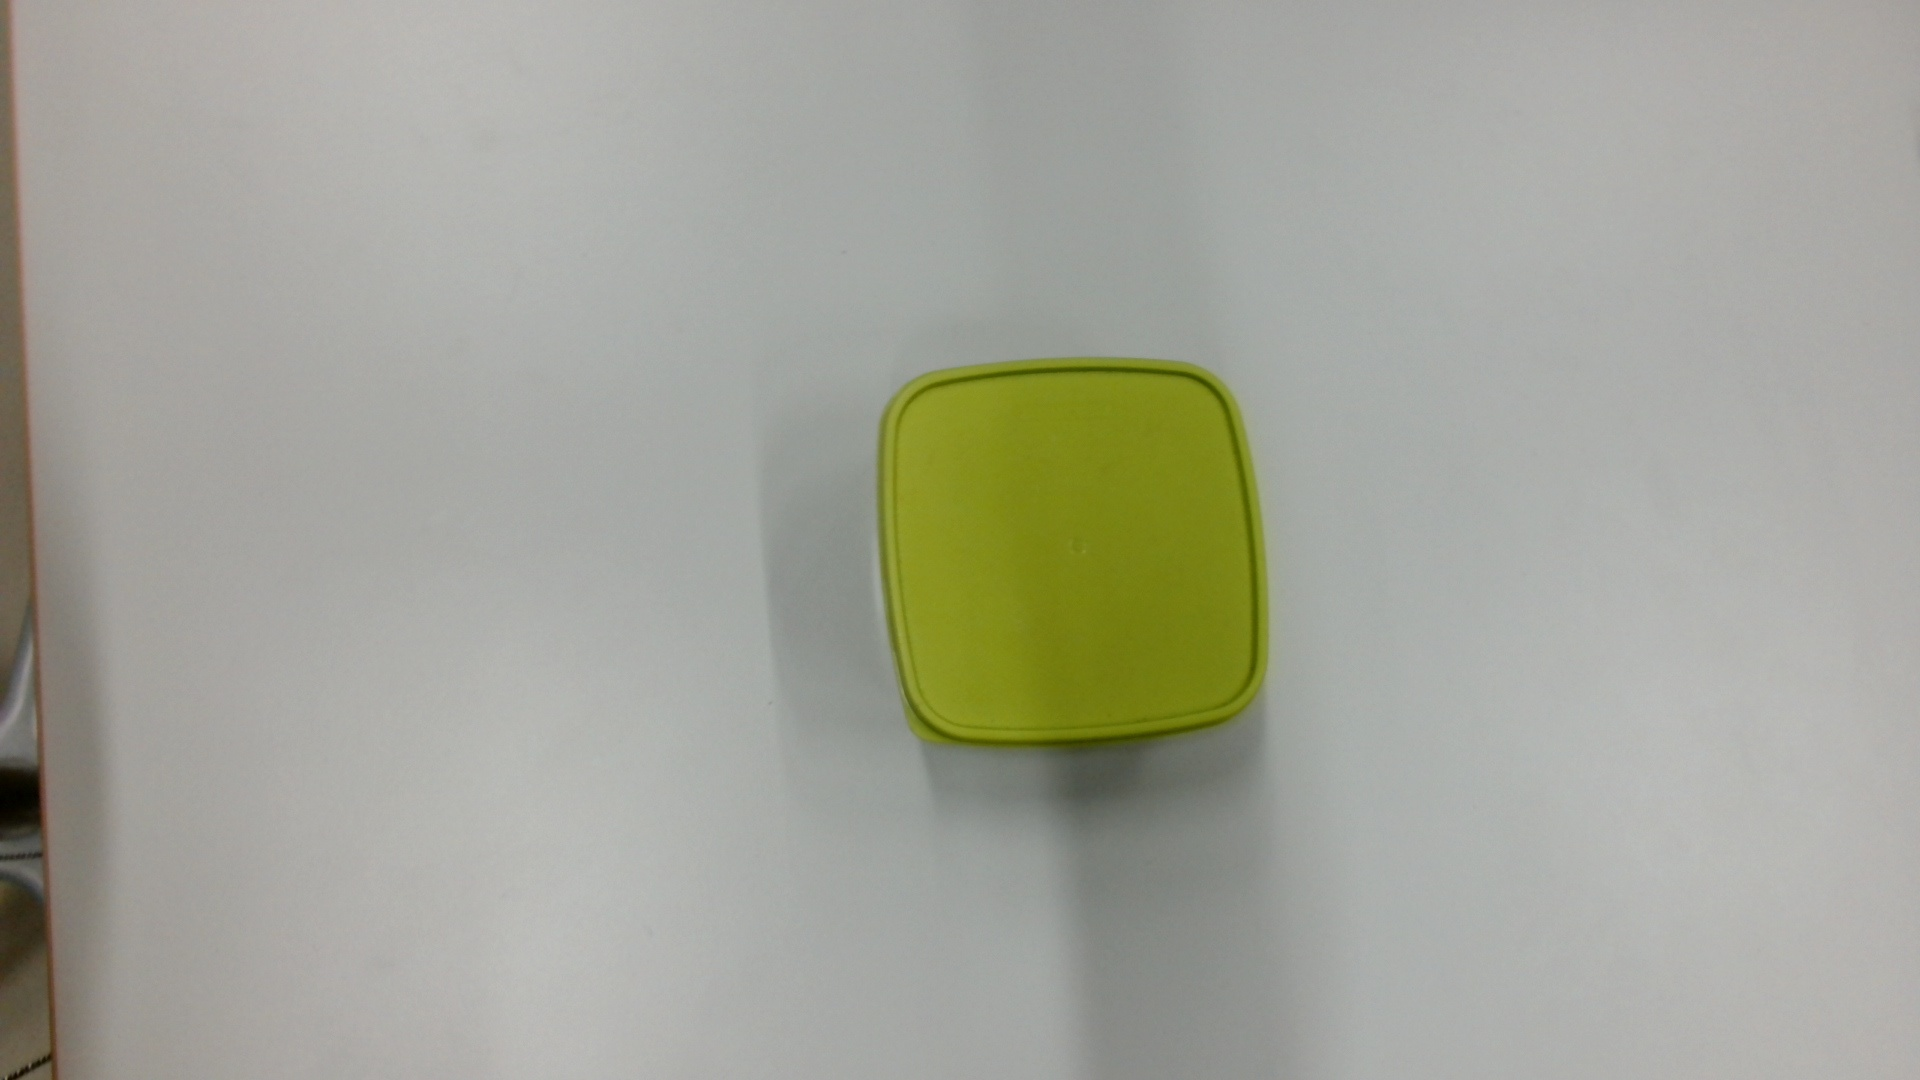Box: (868, 348, 1282, 756)
